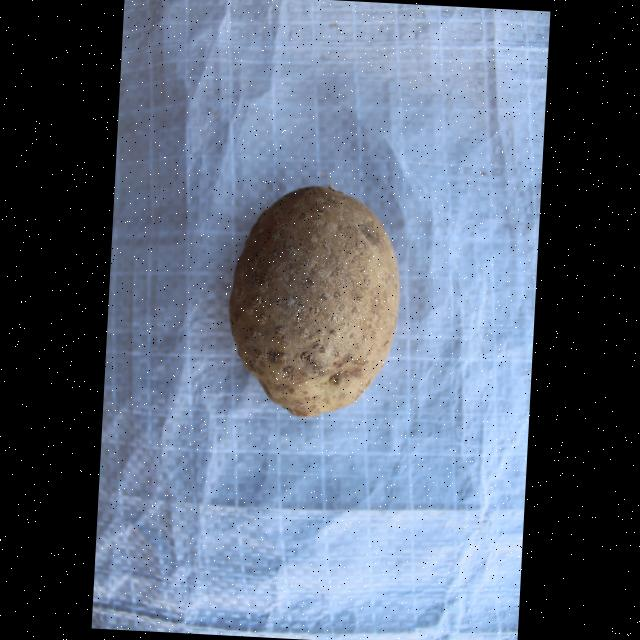Diseased-fungal potato: (225, 174, 402, 423)
